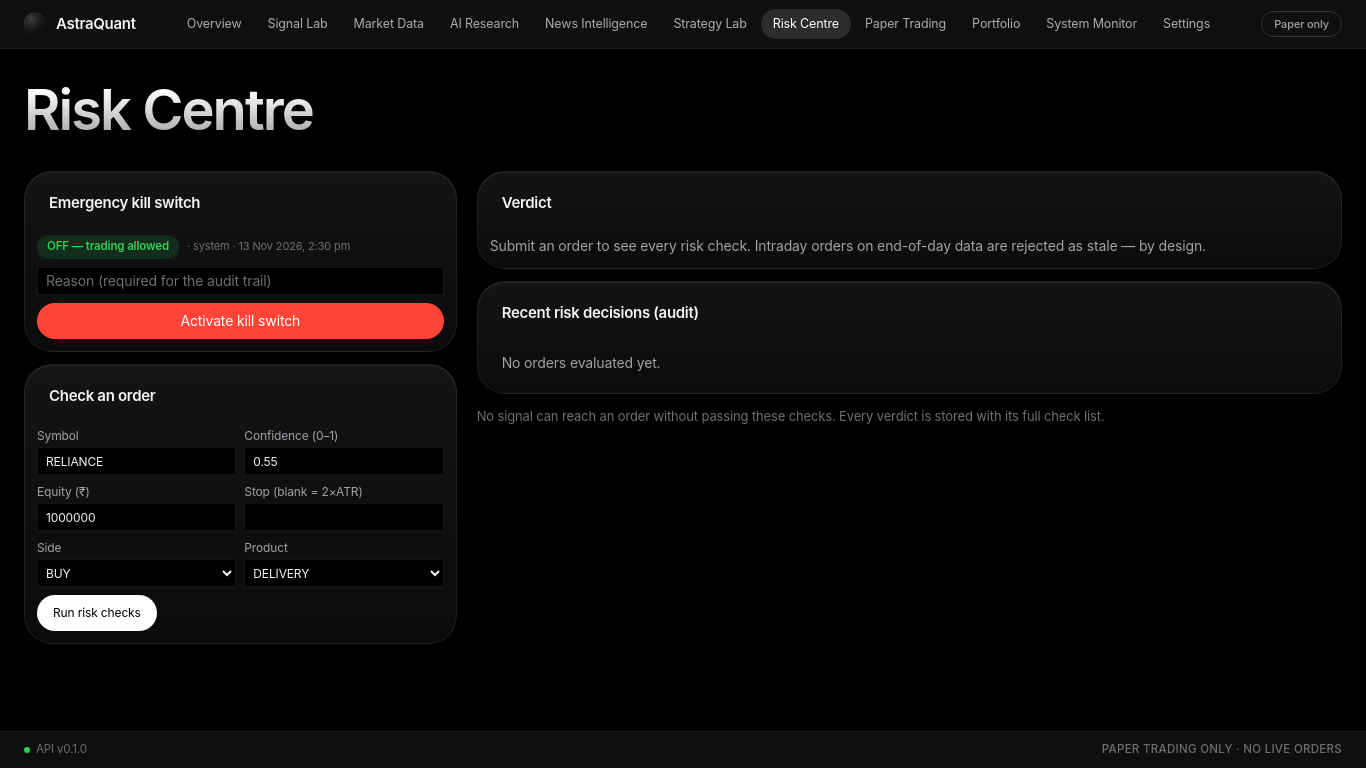
Test case: Risk Centre › checks an order and shows each risk check
Click the button "Run risk checks". click: (97, 613)
box: [37,595,157,631]
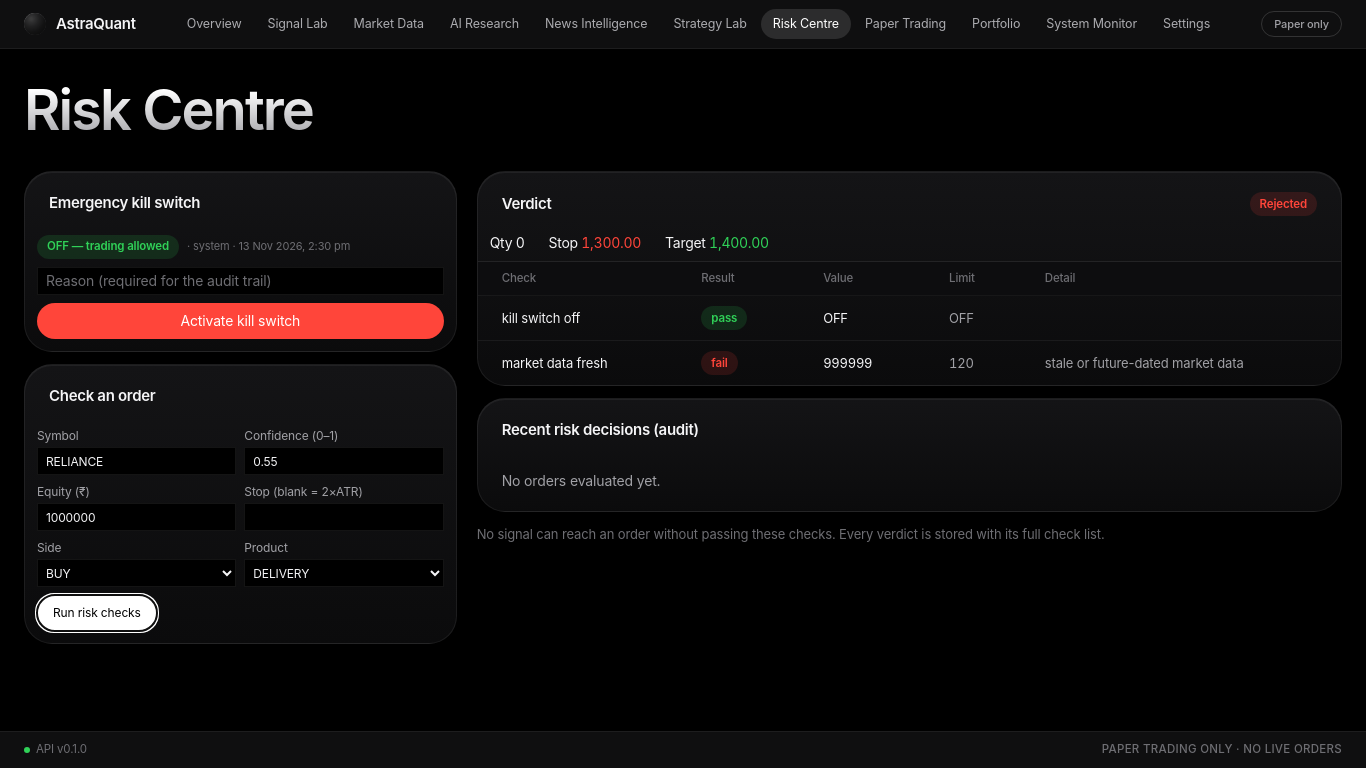
Expected: the text "Rejected" is shown, [1250,192,1317,216]
Expected: the text "market data fresh" is shown, [478,341,677,386]
